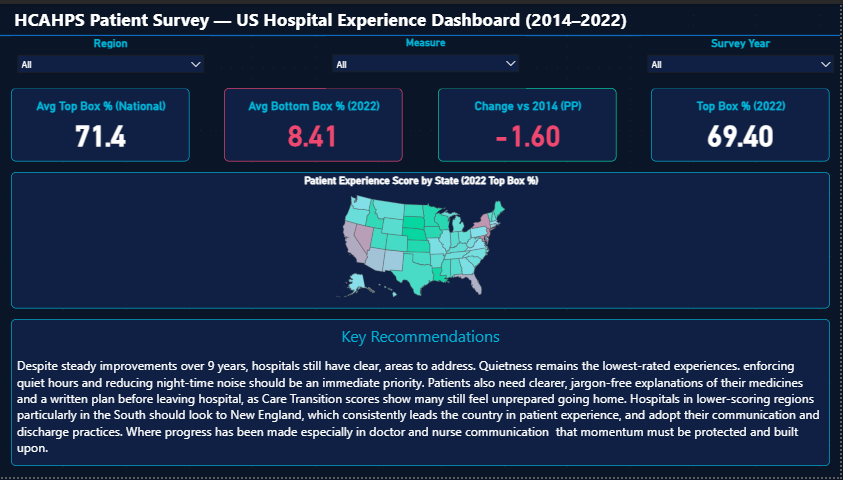

What the dashboard file says about the page in this screenshot:
{"tool":"powerbi","page":{"name":"Page 2","canvas":[1280,720],"ordinal":1},"visuals":[{"type":"shapeMap","title":"Patient Experience Score by State (2022 Top Box %)","fields":{"Category":["state_master.State"],"Value":["Avg(state_master.Top-box Percentage)"]},"box":[16,256,1248,208],"z":0},{"type":"textbox","box":[16,480,1248,224],"z":1000},{"type":"shape","box":[0,0,1280,96],"z":2000},{"type":"card","title":"Avg Top Box % (National)","fields":{"Values":["National Masters.Avg Top Box %"]},"box":[16,128,272,112],"z":3000},{"type":"card","title":"Avg Bottom Box % (2022)","fields":{"Values":["National Masters.Avg Bottom Box %"]},"box":[341.3,128,272,112],"z":4000},{"type":"card","title":"Change vs 2014 (PP)","fields":{"Values":["National Masters.Improvement vs 2014"]},"box":[666.7,128,272,112],"z":5000},{"type":"card","title":"Top Box % (2022)","fields":{"Values":["National Masters.Top Box 2022"]},"box":[992,128,272,112],"z":6000},{"type":"textbox","box":[16,0,1216,64],"z":6001},{"type":"slicer","title":"Survey Year","fields":{"Values":["state_master.reports.Year"]},"box":[976,48,304,80],"z":6002},{"type":"slicer","title":"Measure","fields":{"Values":["National Masters.measures Measure"]},"box":[496,48,304,80],"z":6003},{"type":"slicer","title":"Region","fields":{"Values":["state_master.states.Region"]},"box":[16,48,304,80],"z":6004}]}

Visuals, with their boxes in screenshot pixels (x1, y1, x2, y2), scaled from the page's 1280x720 canvas onto the 843x480 screenshot:
"Patient Experience Score by State (2022 Top Box %)" shapeMap: [11, 171, 832, 309]
textbox: [11, 320, 832, 469]
shape: [0, 0, 842, 64]
"Avg Top Box % (National)" card: [11, 85, 190, 160]
"Avg Bottom Box % (2022)" card: [225, 85, 404, 160]
"Change vs 2014 (PP)" card: [439, 85, 618, 160]
"Top Box % (2022)" card: [653, 85, 832, 160]
textbox: [11, 0, 811, 43]
"Survey Year" slicer: [643, 32, 842, 85]
"Measure" slicer: [327, 32, 527, 85]
"Region" slicer: [11, 32, 211, 85]
